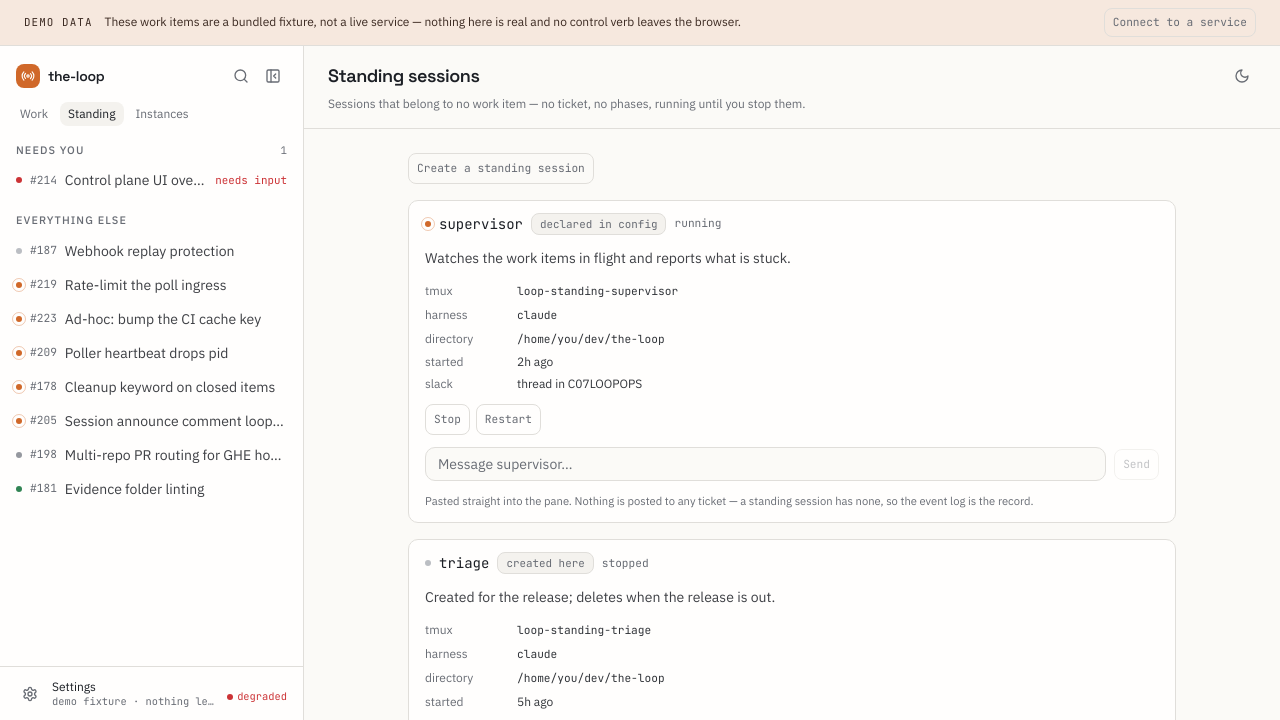
Scenario: the Standing screen, on demo data › sends a message into a running session, and cannot into a stopped one
Type "what is stuck?" into the field labelled "Message supervisor…" at (766, 464), box [425,447,1106,481]
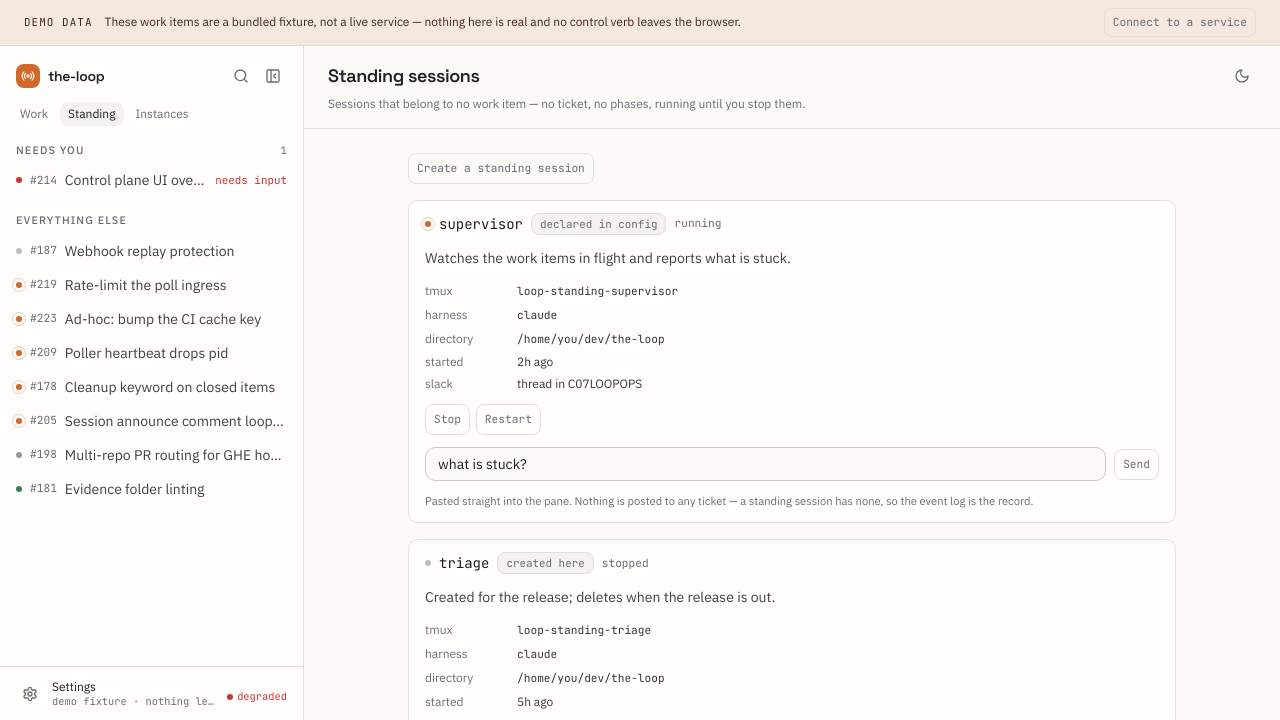
Click the button "Send" at (1137, 464), box [1114,449,1159,480]
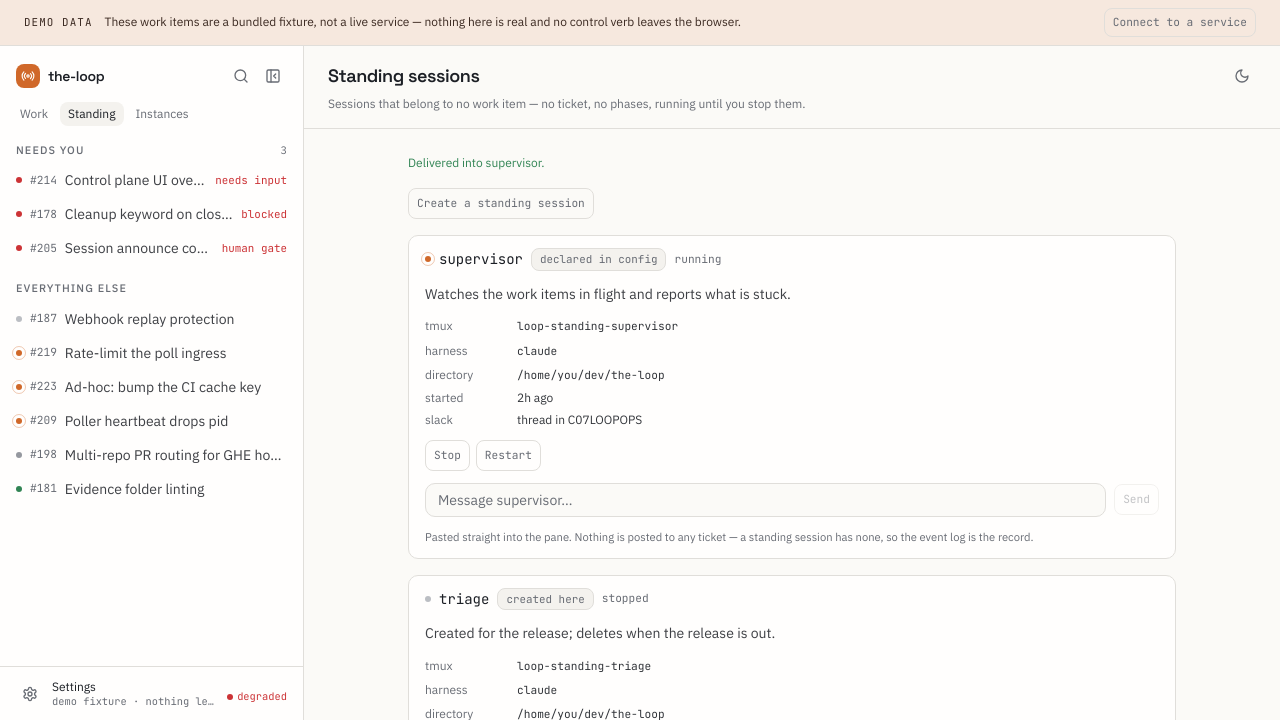
Expected: the text "Delivered into supervisor." is shown, [408,155,544,170]
